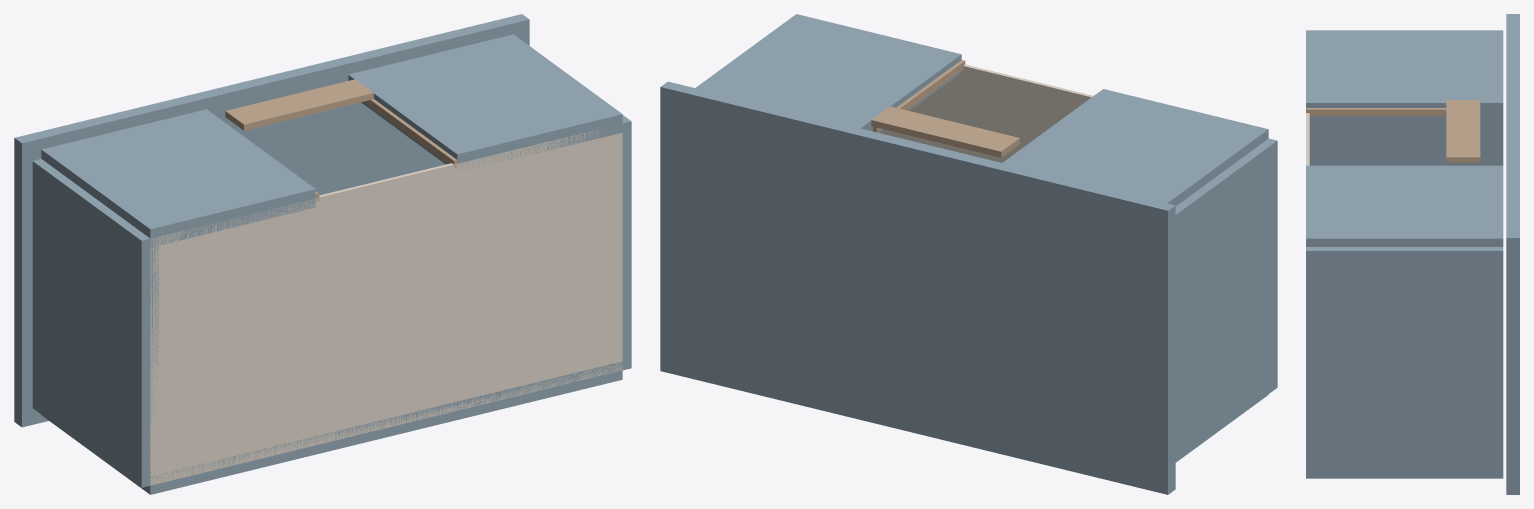
Rendered from building_bus.glb.
The picture shows the model from 3 angles, left to right: view 1: azimuth 30°, elevation 25°; view 2: azimuth 150°, elevation 25°; view 3: azimuth 270°, elevation 25°; orthographic projection. The views are drawn at different scales.
Visible parts, largest first — view 1: building_bus_floor, building_bus_w, building_bus_roof, building_bus_s_l, building_bus_s_r, building_bus_n, building_bus_sign, building_bus_e, building_bus_jamb_r; view 2: building_bus_roof, building_bus_w, building_bus_s_l, building_bus_s_r, building_bus_floor, building_bus_sign, building_bus_jamb_r; view 3: building_bus_e, building_bus_s_r, building_bus_s_l, building_bus_w, building_bus_roof, building_bus_sign, building_bus_jamb_l, building_bus_n.
Boxes of the visible parts, <box> form: building_bus_floor: <box>150,126,622,485</box>; building_bus_w: <box>32,159,159,487</box>; building_bus_roof: <box>14,14,529,427</box>; building_bus_s_l: <box>41,109,315,247</box>; building_bus_s_r: <box>348,34,622,170</box>; building_bus_n: <box>41,361,622,494</box>; building_bus_sign: <box>225,79,373,130</box>; building_bus_e: <box>622,115,631,370</box>; building_bus_jamb_r: <box>365,99,460,167</box>; building_bus_roof: <box>660,81,1175,494</box>; building_bus_w: <box>1175,138,1277,461</box>; building_bus_s_l: <box>1002,89,1268,205</box>; building_bus_s_r: <box>695,14,961,132</box>; building_bus_floor: <box>880,64,1093,162</box>; building_bus_sign: <box>871,106,1019,157</box>; building_bus_jamb_r: <box>873,60,965,132</box>; building_bus_e: <box>1306,247,1503,474</box>; building_bus_s_r: <box>1306,165,1503,246</box>; building_bus_s_l: <box>1306,30,1503,119</box>; building_bus_w: <box>1309,120,1503,165</box>; building_bus_roof: <box>1506,14,1519,494</box>; building_bus_sign: <box>1446,100,1480,162</box>; building_bus_jamb_l: <box>1306,108,1446,116</box>; building_bus_n: <box>1306,474,1503,478</box>.
Size of the model in its own units: 8.6 by 4.6 by 3.47.
